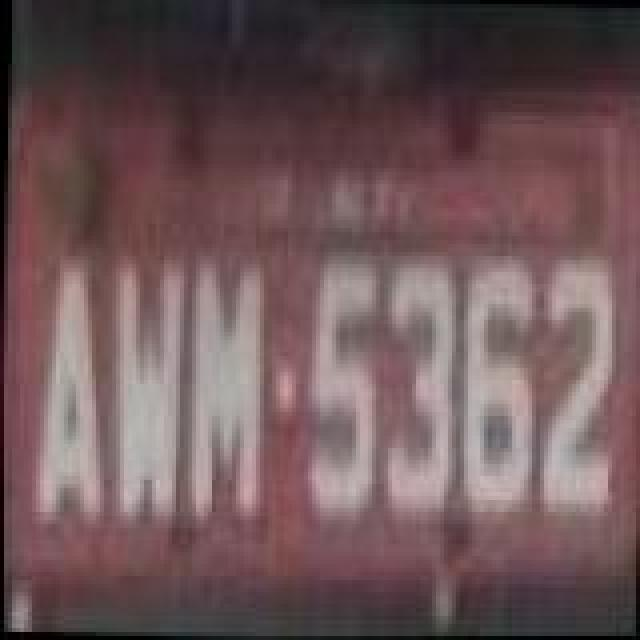2: (532, 248, 620, 520)
3: (376, 250, 456, 522)
5: (300, 246, 380, 518)
6: (452, 252, 540, 524)
A: (34, 256, 110, 528)
M: (180, 252, 268, 536)
W: (104, 258, 192, 530)
